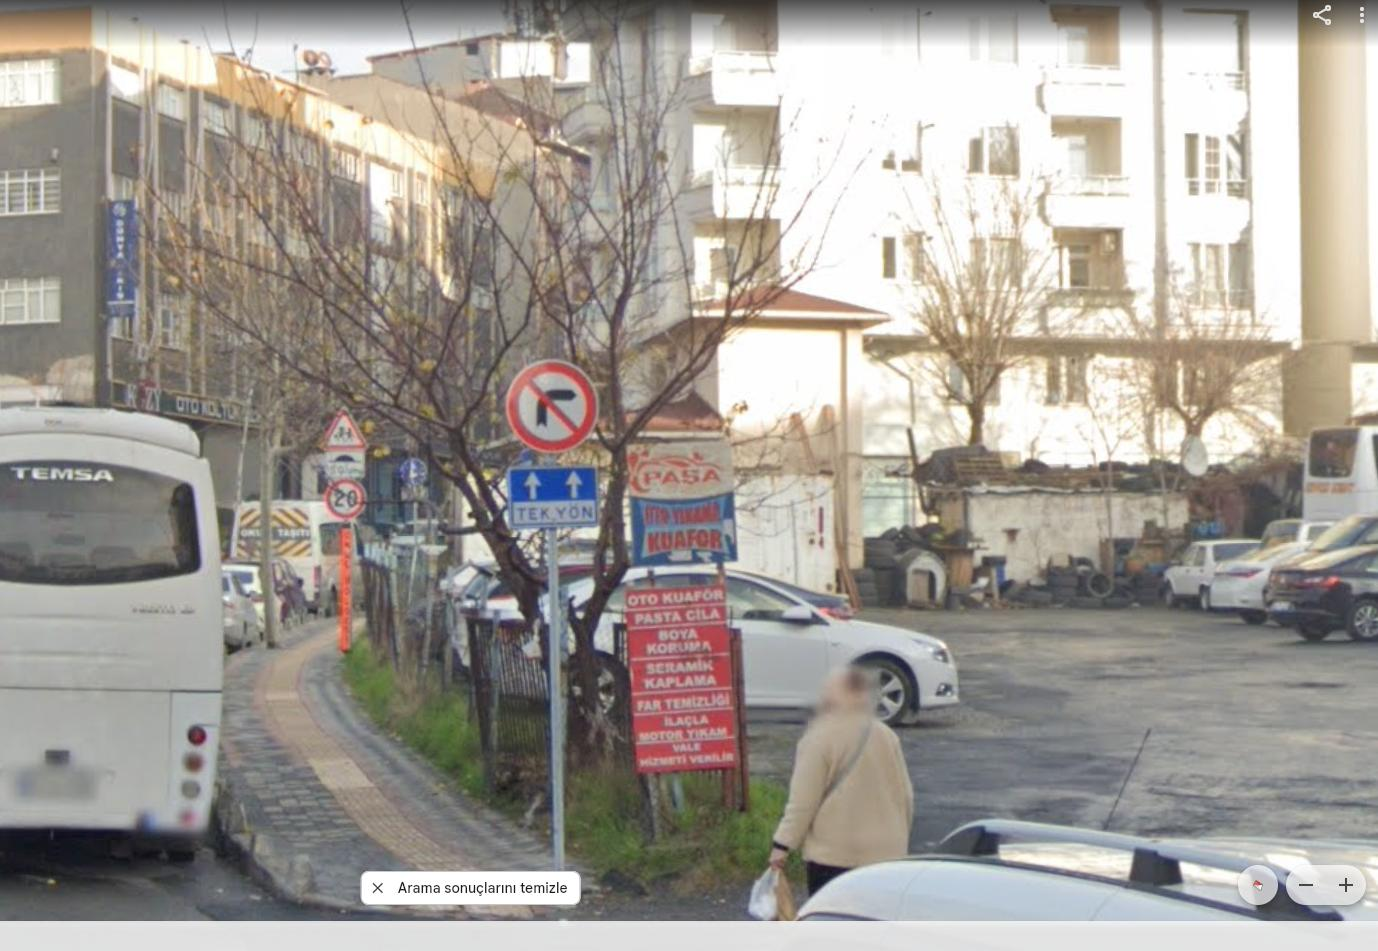rightturnsareforbidden: (513, 365, 592, 444)
